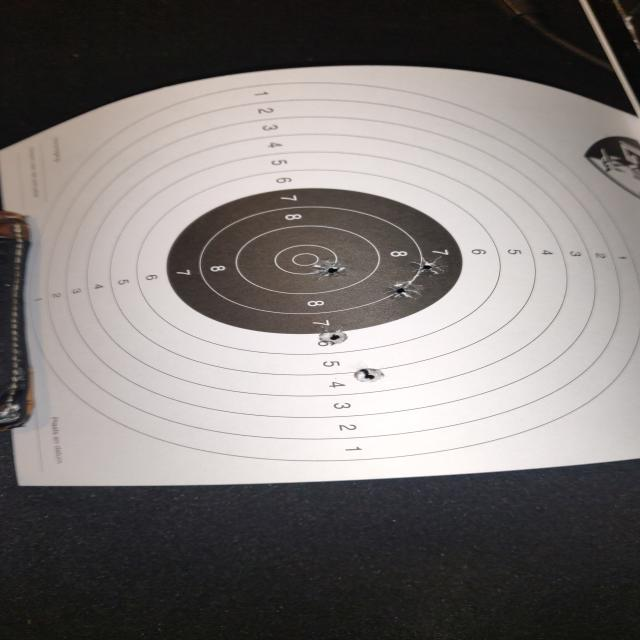10: (308, 260, 351, 280)
5: (350, 367, 384, 383)
7: (316, 328, 348, 345)
8: (382, 280, 424, 300), (409, 256, 448, 276)
Target: (23, 81, 640, 462)
black_contour: (166, 188, 462, 335)
